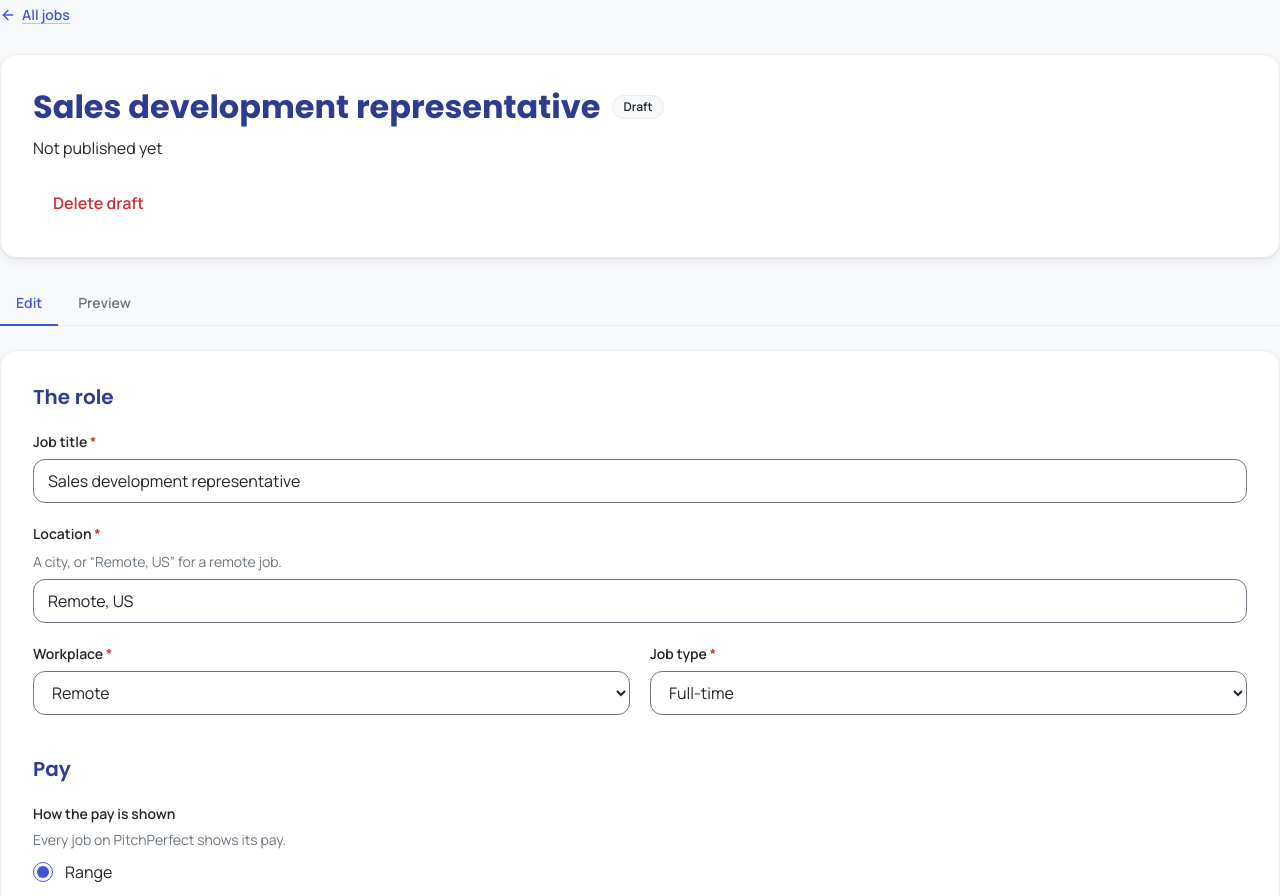
Scenario: JobEditor › previews the saved listing through the shared job view
Click the tab "Preview" at [105, 304], box [62,282,147,326]
(page scrolled)
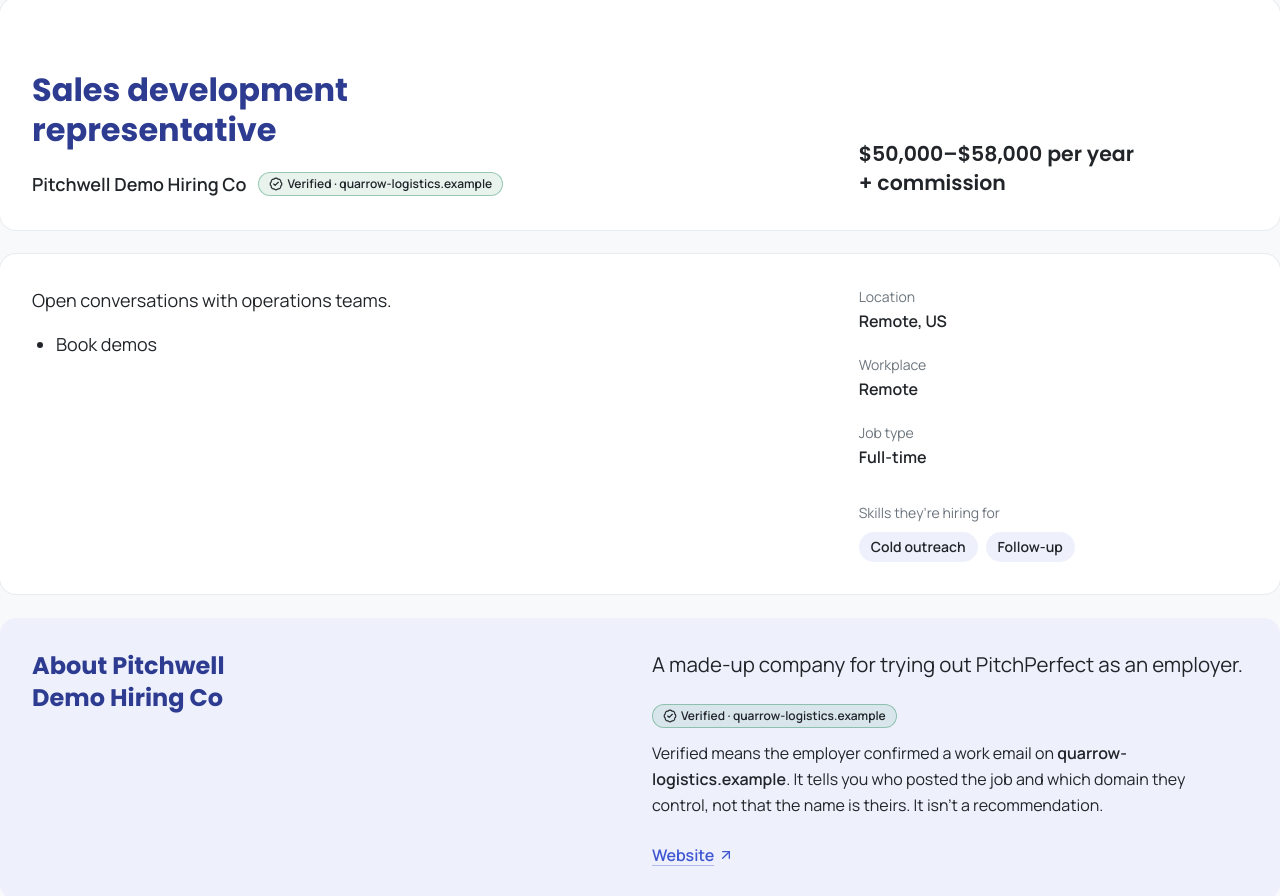
Check: the text "Book demos" is shown, box [56,332,157,356]
Check: the heading "Sales development representative" is shown, box [32,67,348,152]
Check: the heading "About Pitchwell Demo Hiring Co" is shown, box [32,649,224,714]
